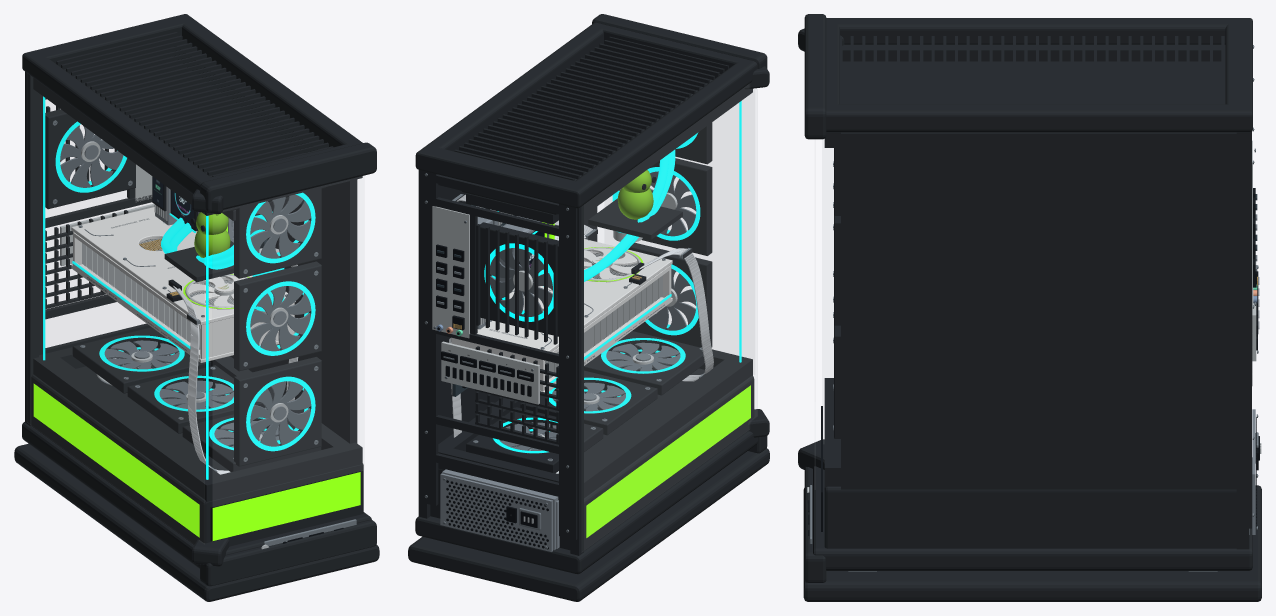
File: showcase92-aurora.glb
3 views of the same model, side by side, from view 1: azimuth 30°, elevation 25°; view 2: azimuth 150°, elevation 25°; view 3: azimuth 270°, elevation 25° (orthographic). The views are drawn at different scales.
Parts seen in each view (by area): view 1: s83-surface-bbbb1dbd-70f6-401d-b2a7-103f2581be6a, s83-surface-cf50de42-9940-44c5-8194-ddea5a566ab4, s83-surface-17c68363-daca-4ec6-8ee4-e366062f2d02, s83-fan-12, s83-fan-13, s83-fan-14, s83-fan-11, s83-fan-8, s83-fan-9, s83-fan-4, s83-surface-5ba50372-da72-42fd-9974-8adc934bd271; view 2: s83-surface-bbbb1dbd-70f6-401d-b2a7-103f2581be6a, s83-surface-ca58d354-7b3e-4283-b833-52c49d954483, s83-surface-17c68363-daca-4ec6-8ee4-e366062f2d02, s83-surface-cf50de42-9940-44c5-8194-ddea5a566ab4, s83-fan-11, s83-fan-10, s83-fan-12, s83-fan-13, s83-fan-4, s83-fan-9; view 3: s83-surface-bbbb1dbd-70f6-401d-b2a7-103f2581be6a.
Part boxes in pixels (left/top/right/bottom): s83-surface-bbbb1dbd-70f6-401d-b2a7-103f2581be6a: left=14, top=14, right=379, bottom=601; s83-surface-cf50de42-9940-44c5-8194-ddea5a566ab4: left=33, top=226, right=360, bottom=540; s83-surface-17c68363-daca-4ec6-8ee4-e366062f2d02: left=43, top=96, right=315, bottom=479; s83-fan-12: left=250, top=381, right=311, bottom=446; s83-fan-13: left=250, top=286, right=311, bottom=351; s83-fan-14: left=250, top=194, right=311, bottom=258; s83-fan-11: left=60, top=125, right=123, bottom=187; s83-fan-8: left=104, top=340, right=179, bottom=371; s83-fan-9: left=159, top=380, right=233, bottom=411; s83-fan-4: left=185, top=275, right=245, bottom=309; s83-surface-5ba50372-da72-42fd-9974-8adc934bd271: left=171, top=190, right=194, bottom=228; s83-surface-bbbb1dbd-70f6-401d-b2a7-103f2581be6a: left=408, top=14, right=769, bottom=601; s83-surface-ca58d354-7b3e-4283-b833-52c49d954483: left=604, top=88, right=755, bottom=375; s83-surface-17c68363-daca-4ec6-8ee4-e366062f2d02: left=484, top=101, right=741, bottom=453; s83-surface-cf50de42-9940-44c5-8194-ddea5a566ab4: left=542, top=222, right=750, bottom=537; s83-fan-11: left=490, top=248, right=552, bottom=316; s83-fan-10: left=606, top=342, right=680, bottom=373; s83-fan-12: left=649, top=268, right=696, bottom=330; s83-fan-13: left=649, top=171, right=696, bottom=236; s83-fan-4: left=584, top=248, right=638, bottom=282; s83-fan-9: left=552, top=382, right=625, bottom=413; s83-surface-bbbb1dbd-70f6-401d-b2a7-103f2581be6a: left=798, top=14, right=1261, bottom=601.
Size of the model in its own units: 1.37 by 3 by 2.56.
Materials: 23 (22 with a texture image).
